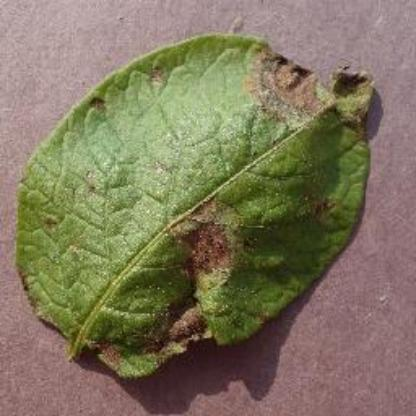Late-Blight: (13, 29, 377, 383)
